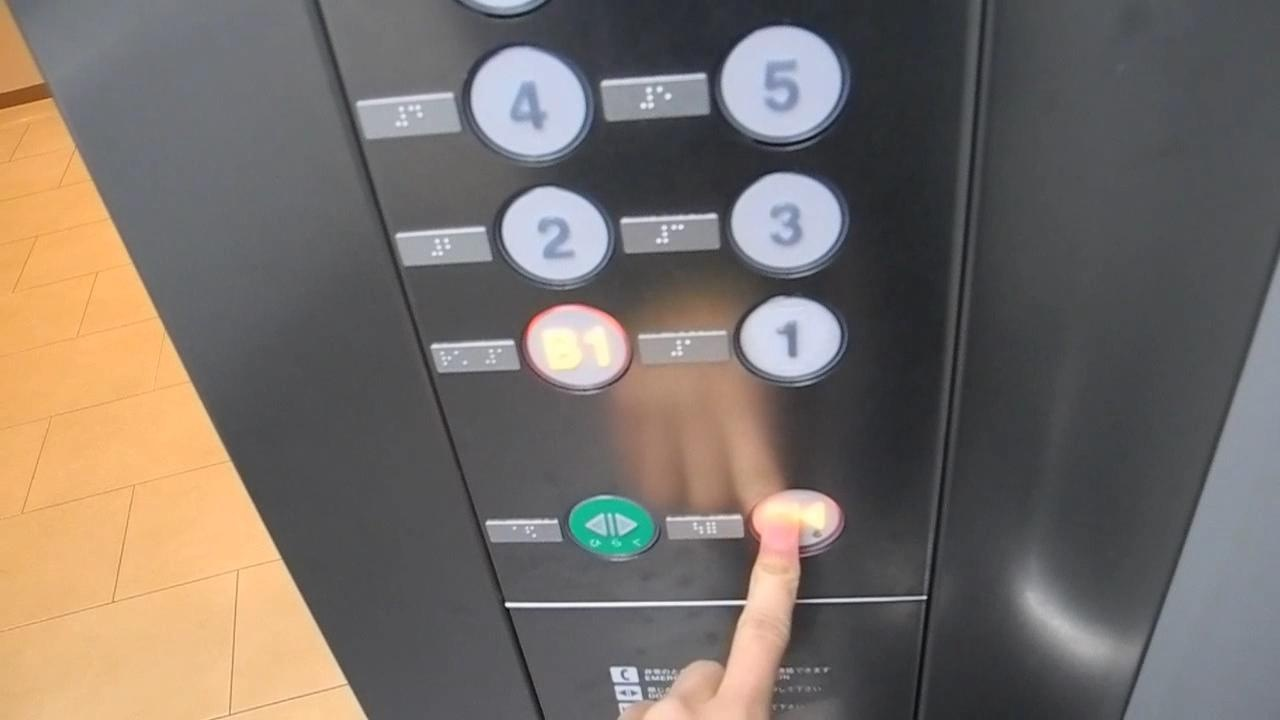1: (734, 294, 846, 384)
2: (497, 184, 613, 287)
3: (726, 168, 847, 276)
4: (460, 45, 593, 162)
5: (717, 23, 842, 143)
B1: (519, 300, 631, 394)
close: (747, 489, 843, 555)
open: (567, 494, 660, 563)
